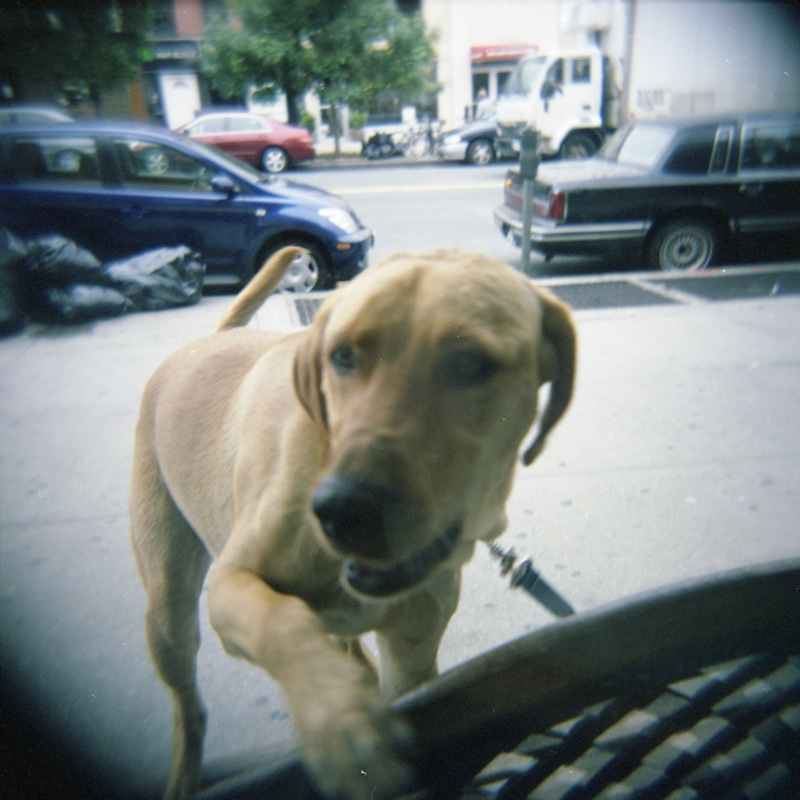car: (1, 124, 335, 267), (520, 122, 800, 265)
dog: (115, 255, 576, 790)
